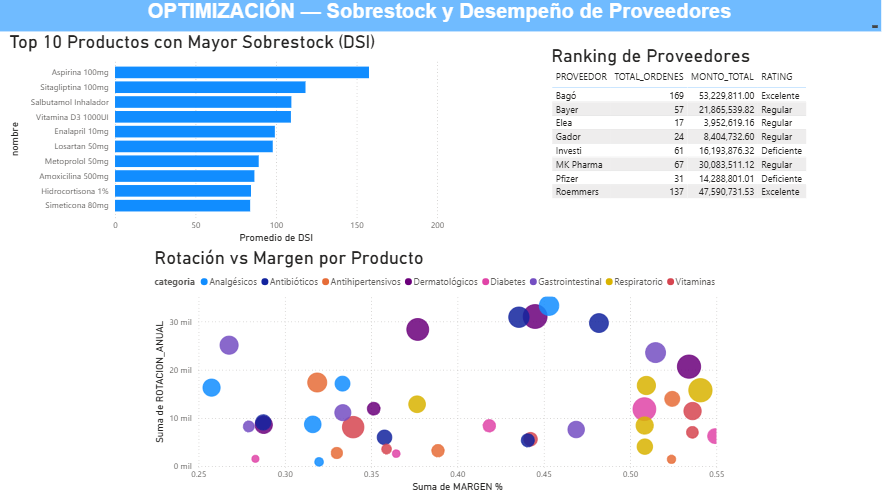

The page's visual inventory and layout, read from the dashboard file:
{"tool":"powerbi","page":{"name":"Optimización","canvas":[1280,720],"ordinal":2},"visuals":[{"type":"barChart","title":"Top 10 Productos con Mayor Sobrestock (DSI)","fields":{"Category":["KPI_maestro.nombre"],"Y":["Avg(KPI_maestro.DSI)"]},"box":[11.8,47,640,312.4],"z":0},{"type":"tableEx","title":"Ranking de Proveedores","fields":{"Values":["Proveedores2.PROVEEDOR","Proveedores2.TOTAL_ORDENES","Proveedores2.MONTO_TOTAL","Proveedores2.RATING"]},"box":[791.2,67.2,401.5,238.5],"z":1000},{"type":"scatterChart","title":"Rotación vs Margen por Producto","fields":{"X":["Sum(KPI_maestro.MARGEN %)"],"Category":["KPI_maestro.nombre"],"Y":["Sum(KPI_maestro.ROTACION_ANUAL)"],"Series":["KPI_maestro.categoria"],"Size":["Sum(KPI_maestro.INGRESOS_TOTAL)"]},"box":[221.7,359.5,836.5,361.2],"z":2000},{"type":"textbox","title":"OPTIMIZACIÓN — Sobrestock y Desempeño de Proveedores","box":[0,0,1280,47],"z":3000}]}

Visuals, with their boxes in screenshot pixels (x1, y1, x2, y2), scaled from the page's 1280x720 canvas onto the 882x493 screenshot:
"Top 10 Productos con Mayor Sobrestock (DSI)" barChart: 8, 32, 449, 246
"Ranking de Proveedores" tableEx: 545, 46, 822, 209
"Rotación vs Margen por Producto" scatterChart: 153, 246, 729, 492
"OPTIMIZACIÓN — Sobrestock y Desempeño de Proveedores" textbox: 0, 0, 881, 32
